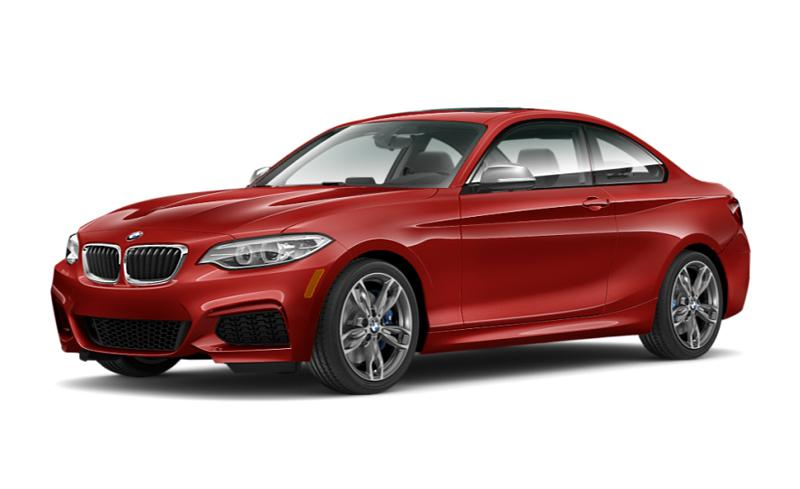car: (46, 109, 766, 373)
